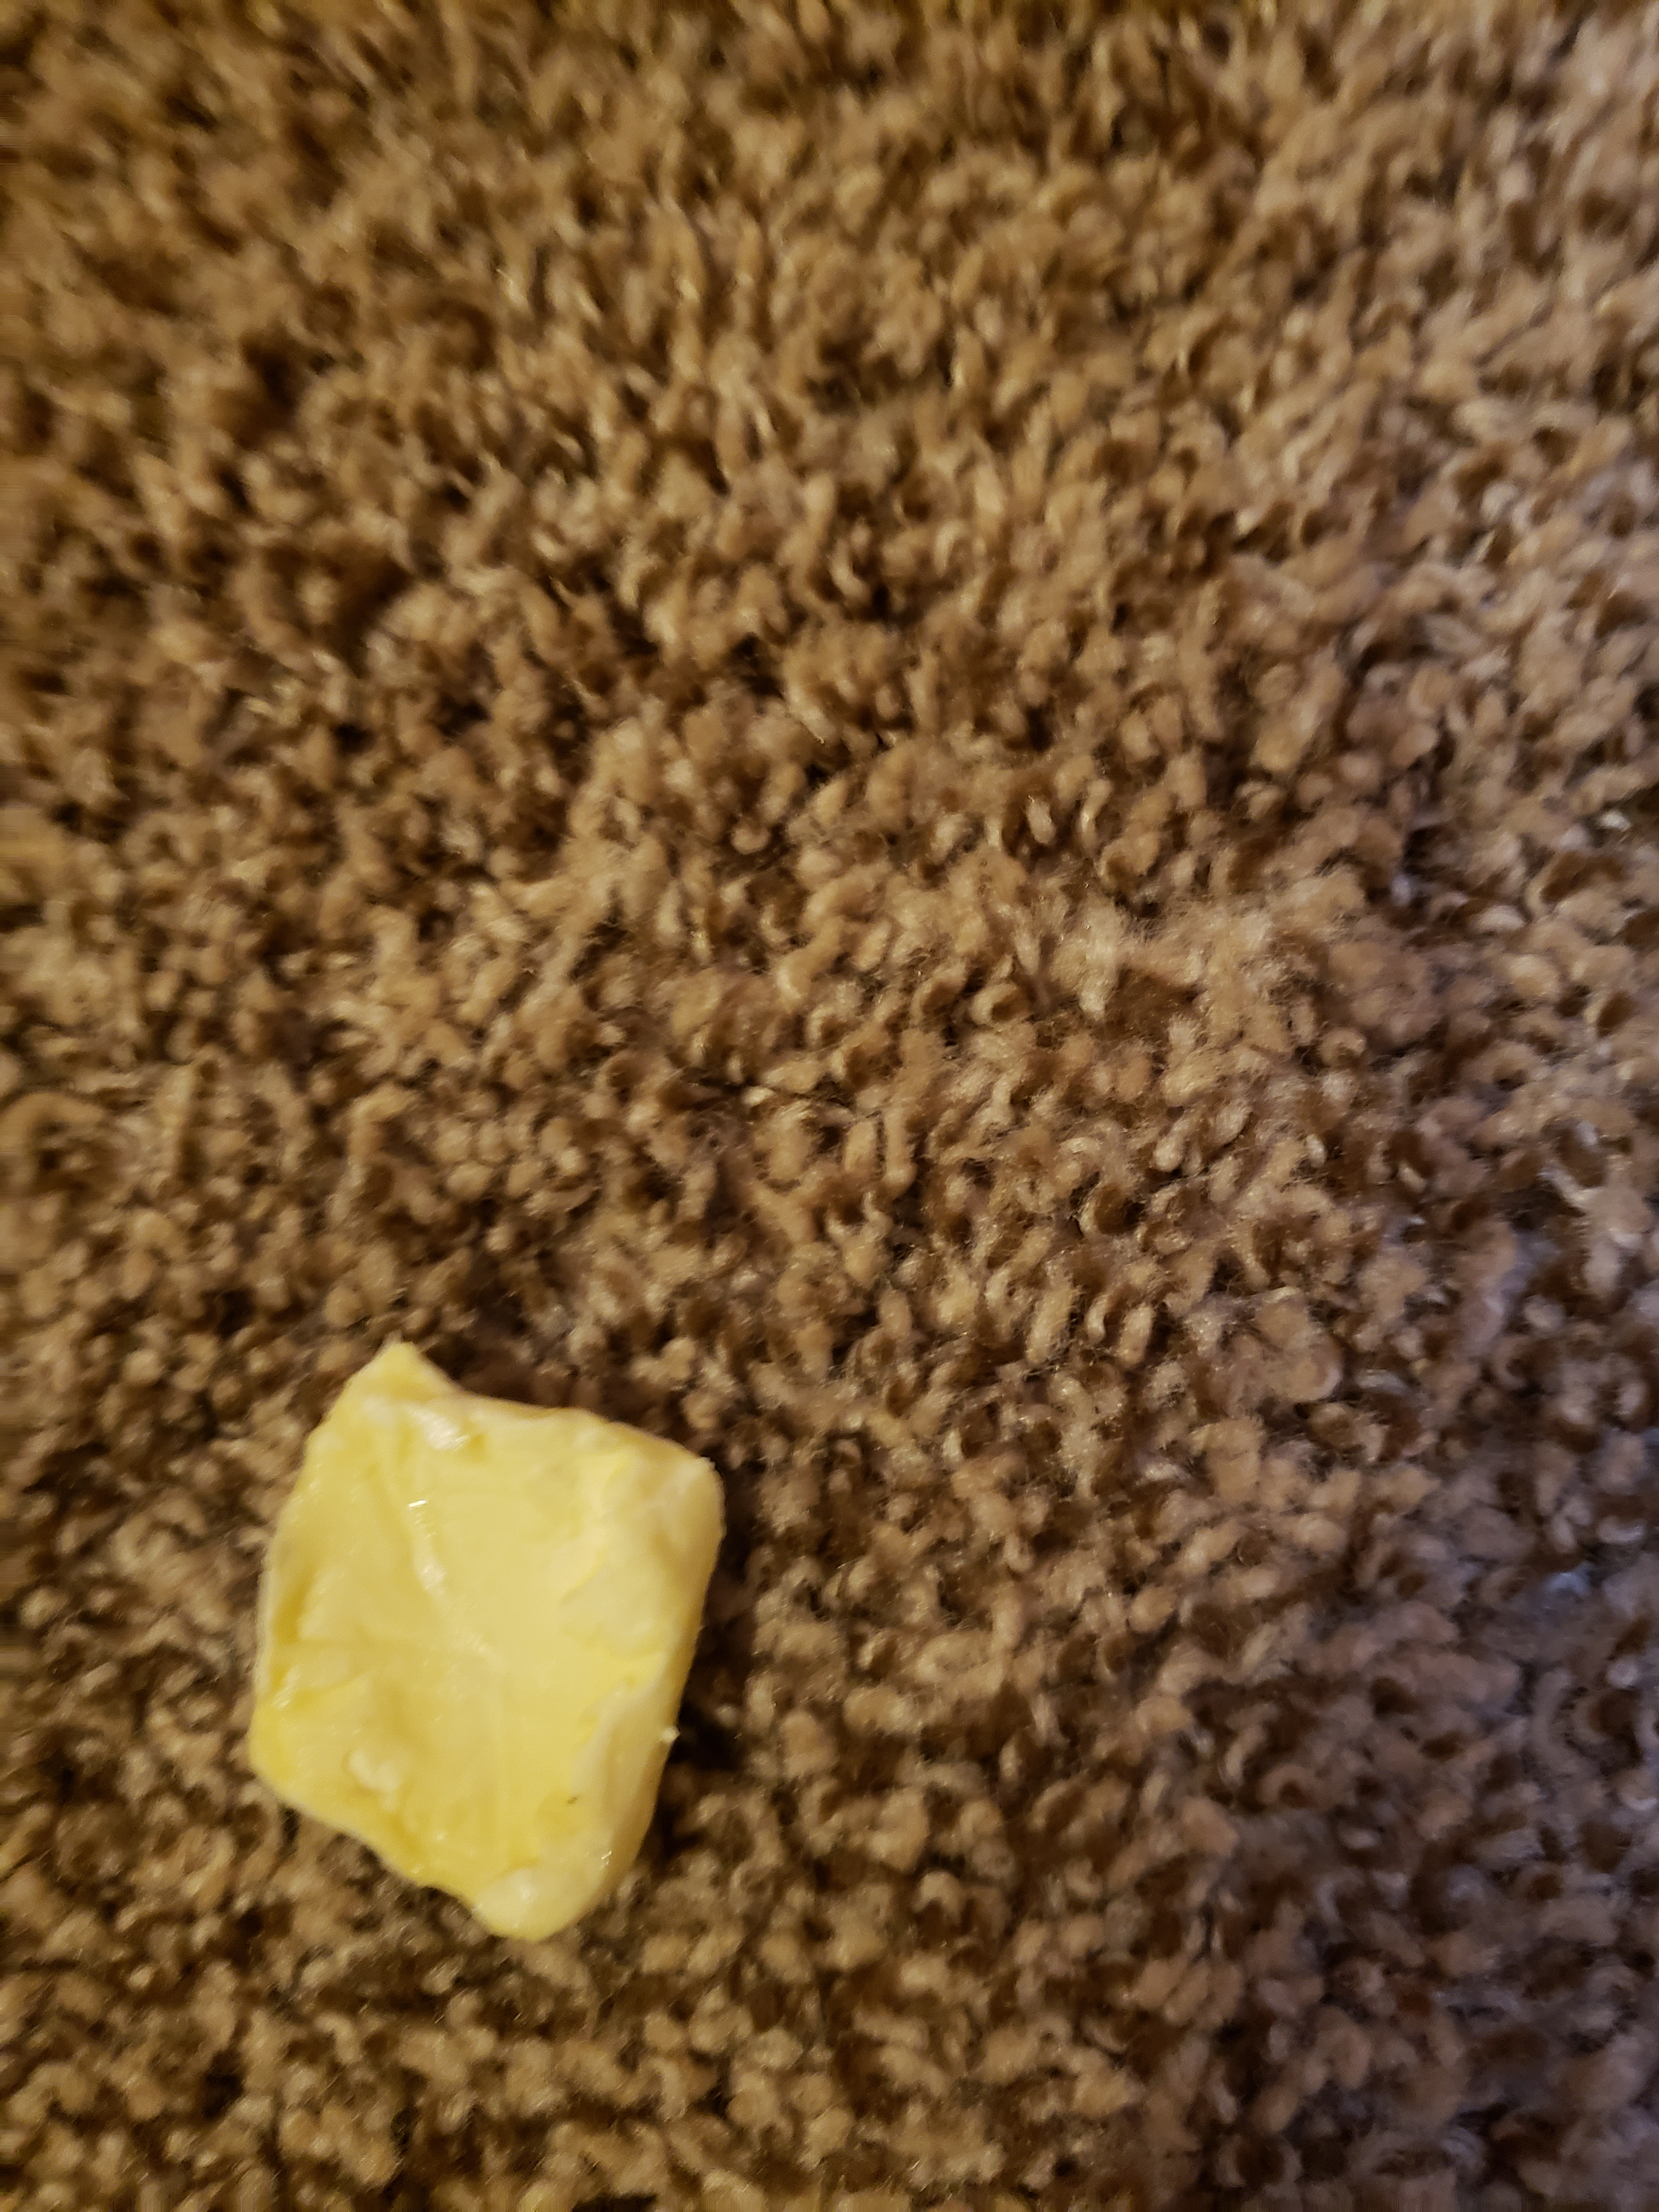Butter: (246, 1372, 720, 1926)
